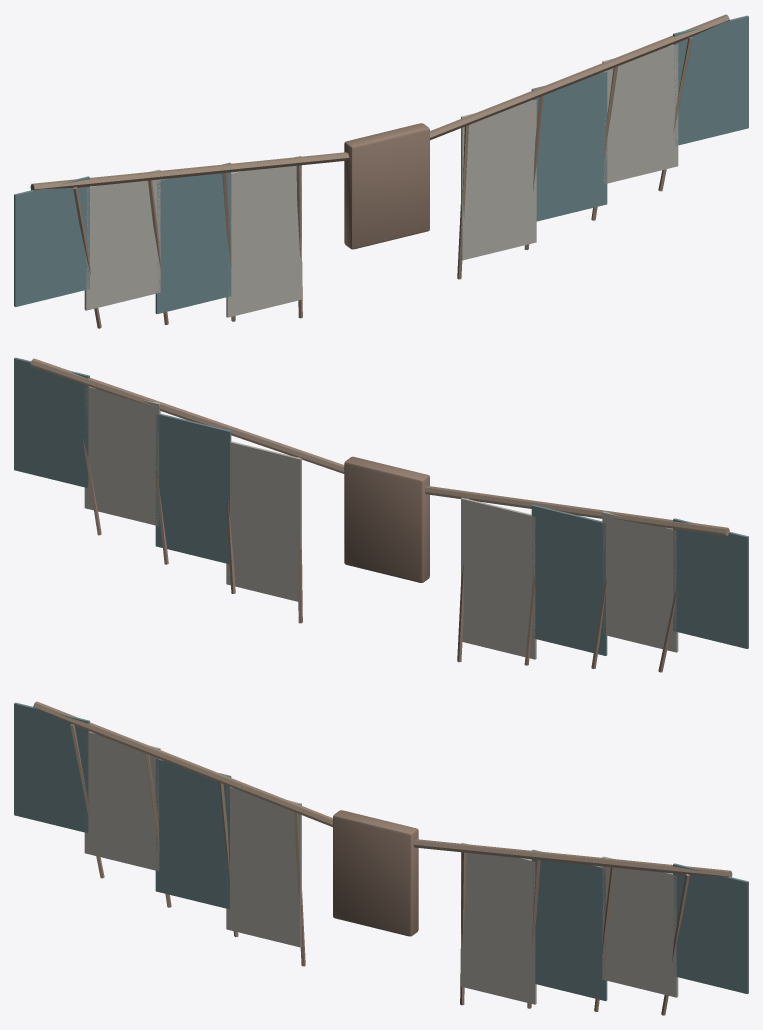
Rendered from tl_glider.gltf.
The picture shows the model from 3 angles, top to bottom: view 1: azimuth 30°, elevation 25°; view 2: azimuth 150°, elevation 25°; view 3: azimuth 330°, elevation 25°; orthographic projection.
Parts seen in each view (by area): view 1: WingL, WingR, Body; view 2: WingR, WingL, Body; view 3: WingR, WingL, Body.
Boxes of the visible parts, x1=… form: WingL: x1=14, y1=152, x2=349, y2=328; WingR: x1=430, y1=14, x2=748, y2=279; Body: x1=344, y1=123, x2=429, y2=249; WingR: x1=14, y1=357, x2=344, y2=623; WingL: x1=424, y1=486, x2=748, y2=672; Body: x1=344, y1=456, x2=429, y2=582; WingR: x1=413, y1=839, x2=748, y2=1015; WingL: x1=14, y1=701, x2=332, y2=966; Body: x1=333, y1=810, x2=418, y2=936.
Bounding box in the file's own units: 2.95 × 0.7635 × 0.095.
